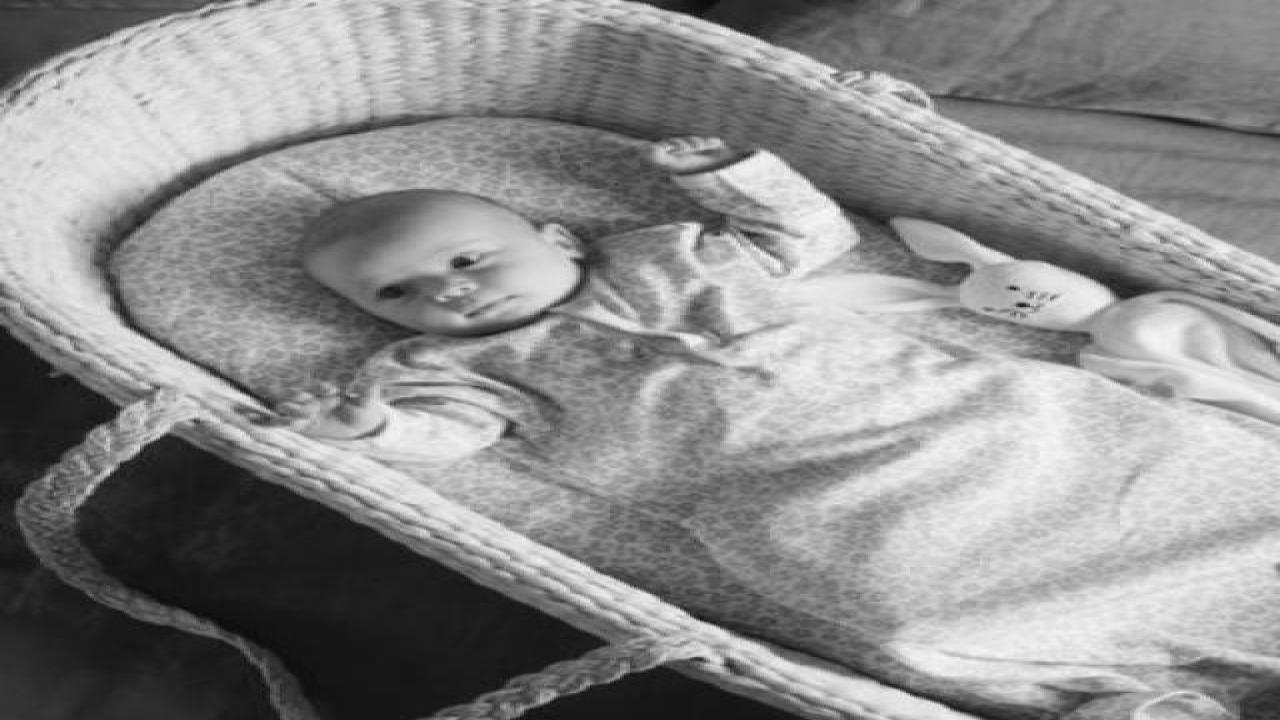hand: (260, 380, 376, 437), (640, 136, 746, 172)
